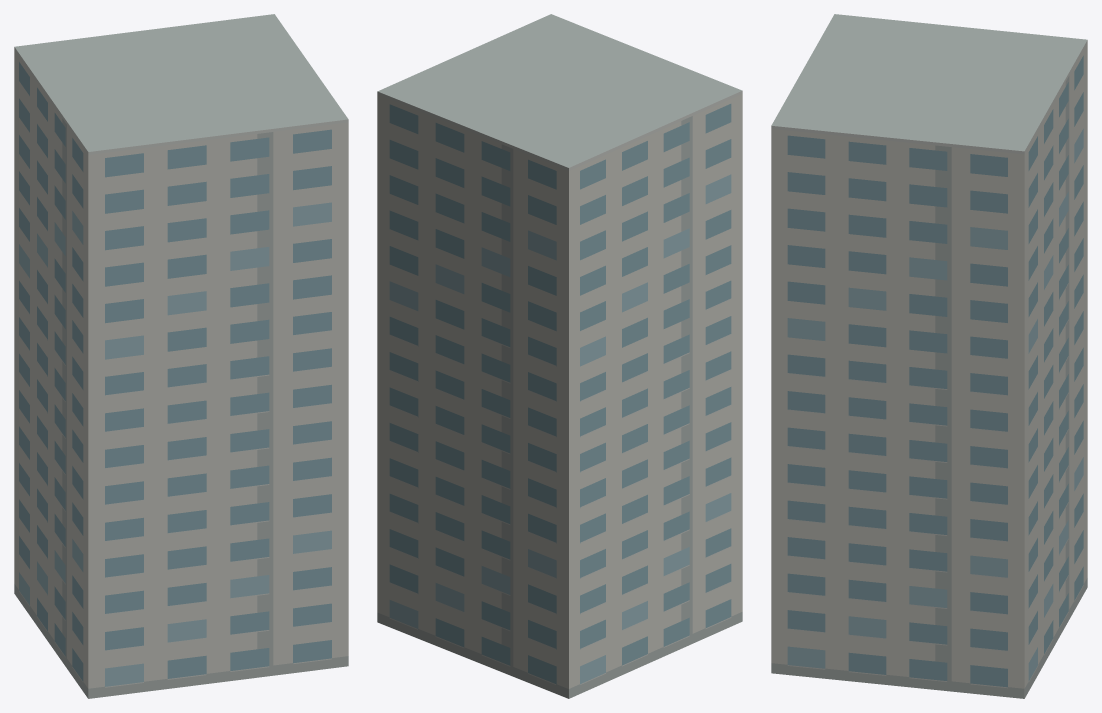
Rendered from residential-139bcad3-ffc1-40df-a6b4-5cb470df9dae.glb.
The picture shows the model from 3 angles, left to right: view 1: azimuth 30°, elevation 25°; view 2: azimuth 150°, elevation 25°; view 3: azimuth 270°, elevation 25°; orthographic projection. The views are drawn at different scales.
Visible parts, largest first — view 1: residential-139bcad3-ffc1-40df-a6b4-5cb470df9dae.tmp; view 2: residential-139bcad3-ffc1-40df-a6b4-5cb470df9dae.tmp; view 3: residential-139bcad3-ffc1-40df-a6b4-5cb470df9dae.tmp.
Part boxes in pixels (bbox=[...]): residential-139bcad3-ffc1-40df-a6b4-5cb470df9dae.tmp: bbox=[14, 14, 348, 698]; residential-139bcad3-ffc1-40df-a6b4-5cb470df9dae.tmp: bbox=[377, 14, 742, 698]; residential-139bcad3-ffc1-40df-a6b4-5cb470df9dae.tmp: bbox=[771, 14, 1087, 698].
Bounding box in the file's own units: 23.15 × 43 × 22.53.
